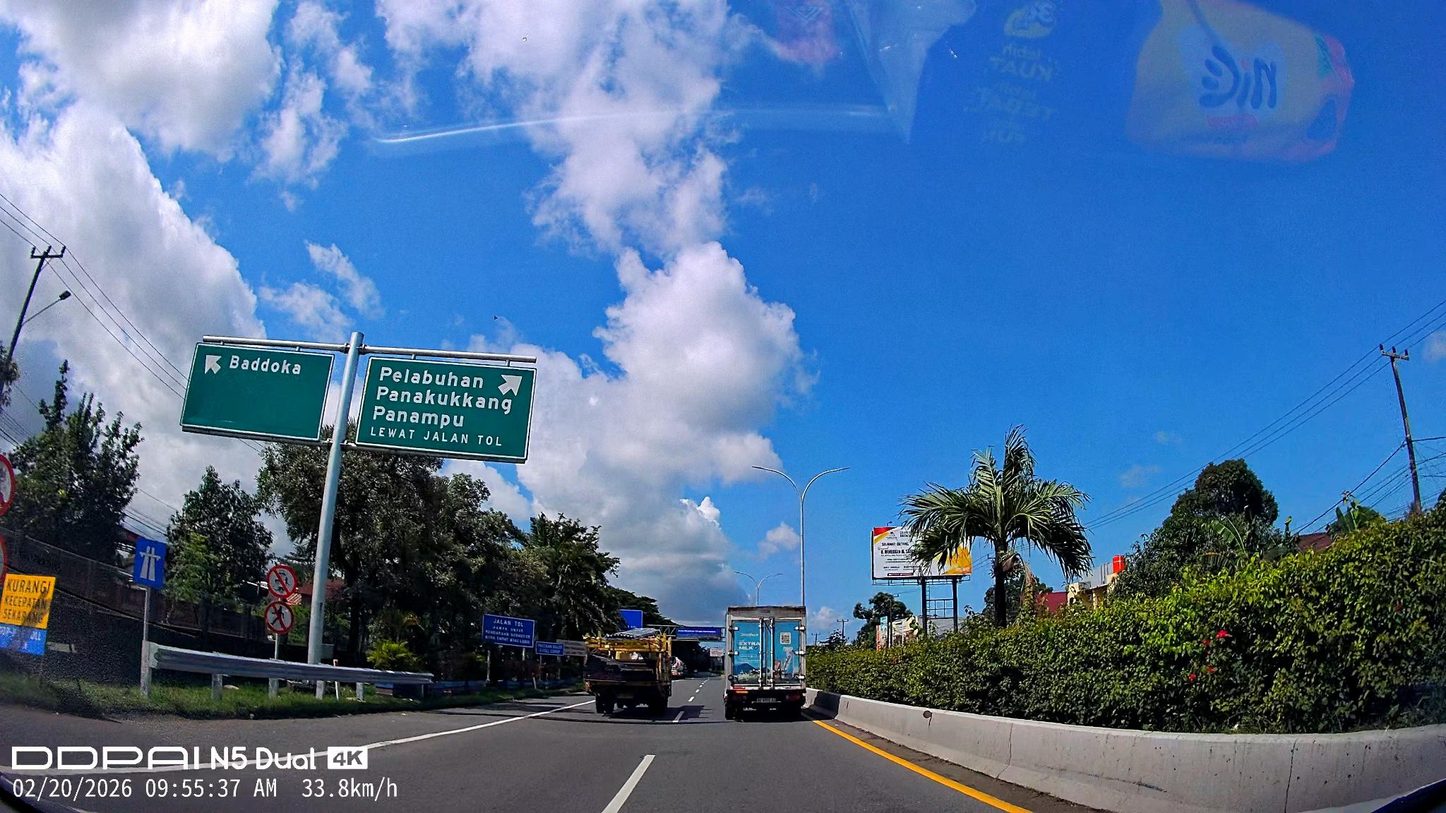rambu_teks: (354, 354, 537, 463), (177, 341, 337, 445)
